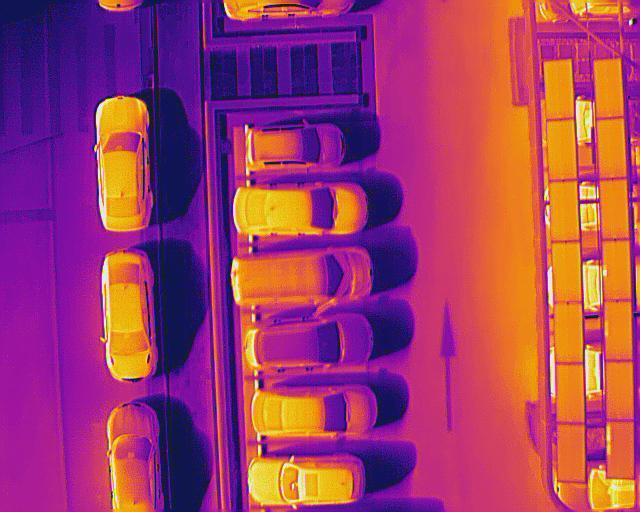Cell: (602, 239, 632, 302)
Cell-Multi: (606, 418, 637, 478)
No-Anomaly: (546, 117, 578, 182), (597, 117, 629, 180), (600, 176, 631, 240), (556, 422, 587, 483), (555, 301, 585, 364), (551, 242, 581, 305), (543, 60, 575, 119), (606, 360, 636, 421), (604, 300, 634, 360), (550, 179, 579, 241), (556, 363, 585, 423), (594, 59, 624, 117)
